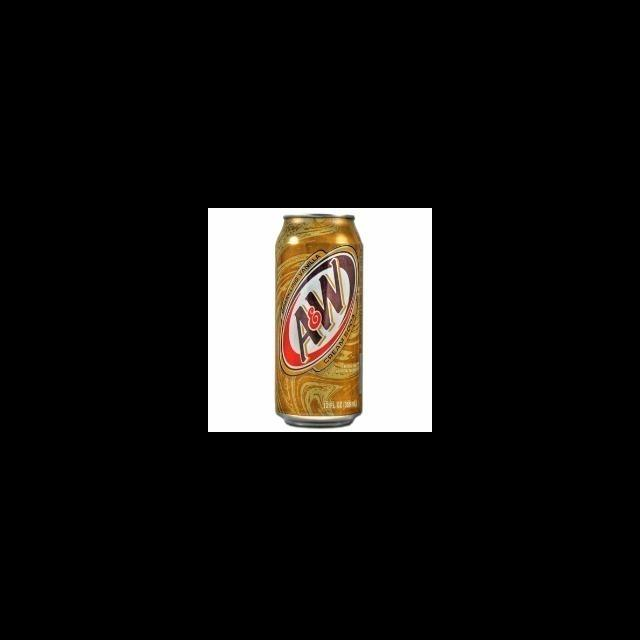metal: (257, 209, 376, 432)
